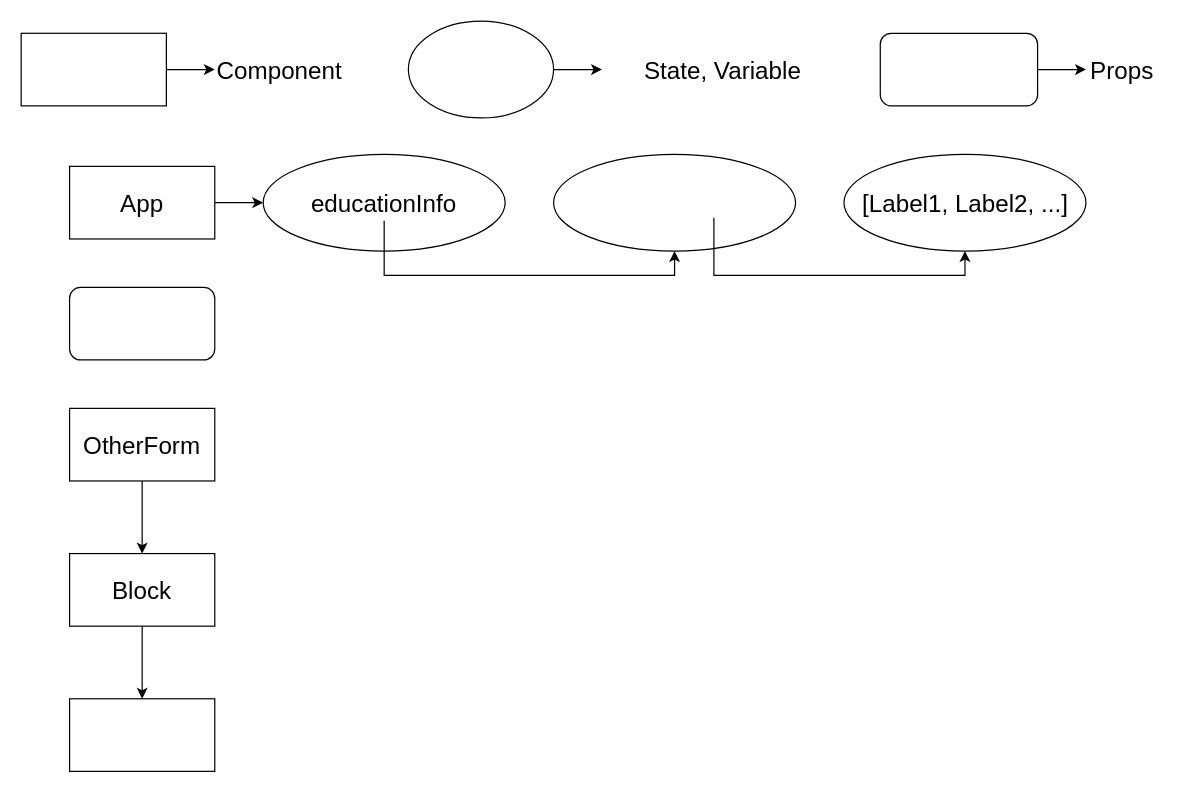
Some shapes in this 1180 by 793 pixel diagram are drawn without their labels. Here are the shapes that lost their labels. From the top down, the box of each, then its label:
(552, 153, 796, 251): [Block1, Block2, ...]
(68, 698, 215, 771): TextField
